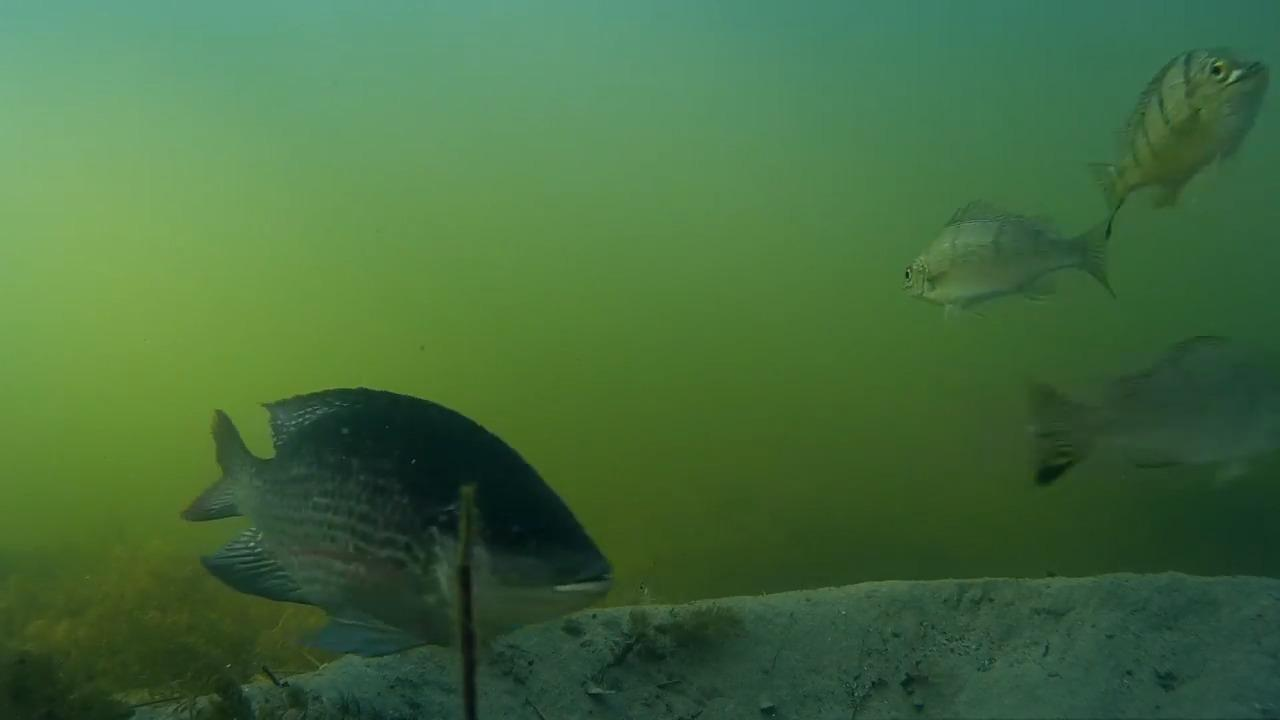Tilapia: (184, 376, 637, 678), (1027, 322, 1280, 512), (1091, 20, 1280, 236), (907, 184, 1128, 318)
